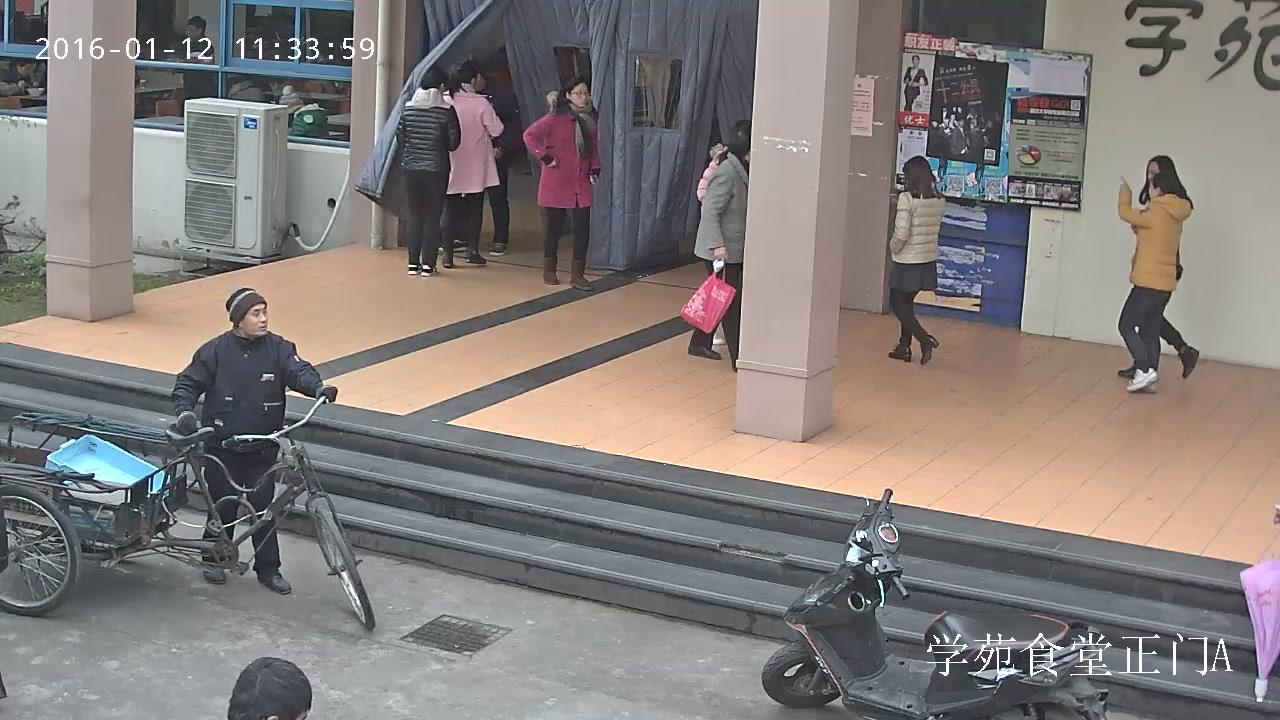person: (115, 284, 376, 630), (169, 285, 337, 593), (1116, 155, 1200, 380), (678, 124, 751, 368), (522, 76, 603, 291), (1116, 172, 1192, 391), (445, 64, 518, 257), (396, 65, 462, 276), (440, 63, 505, 267), (887, 153, 946, 365), (175, 16, 217, 97), (278, 85, 328, 138), (0, 57, 43, 95), (903, 54, 927, 109), (225, 76, 266, 104)
